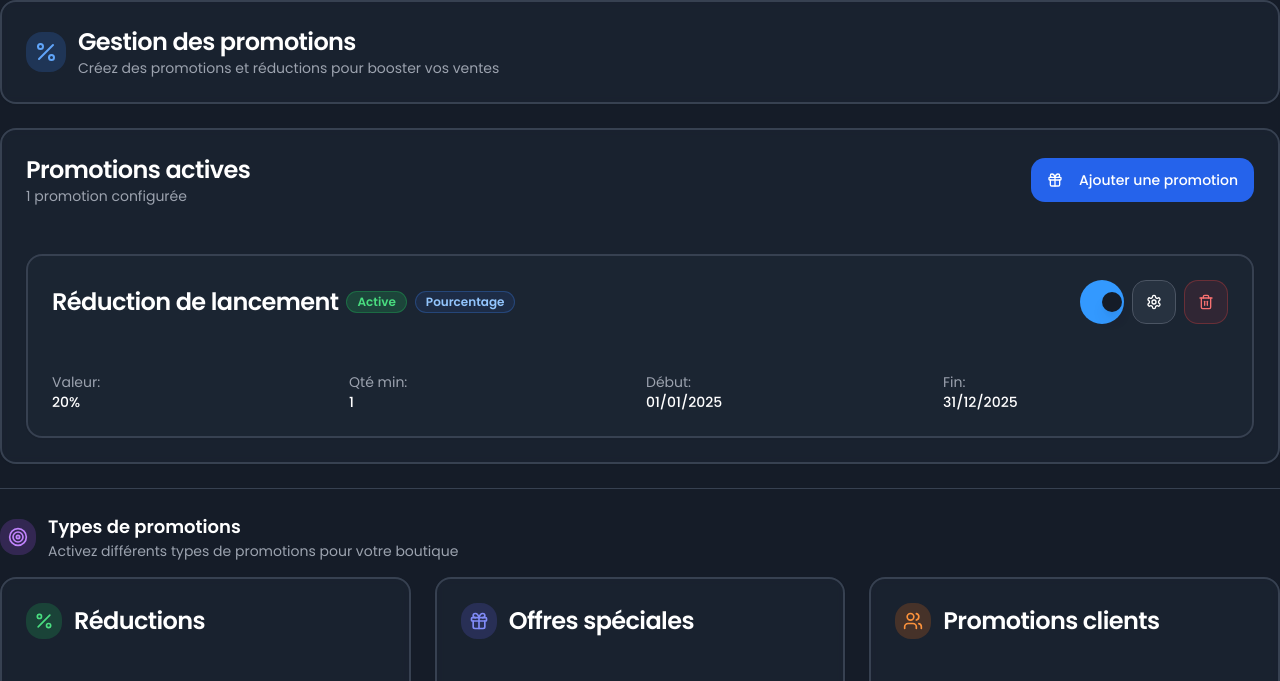
Test: ProductPromotionsTab › ouvre le formulaire d'édition quand le bouton éditer est cliqué
Click the button named "Éditer la promotion Réduction de lancement": (1154, 302) [1132,280,1176,324]
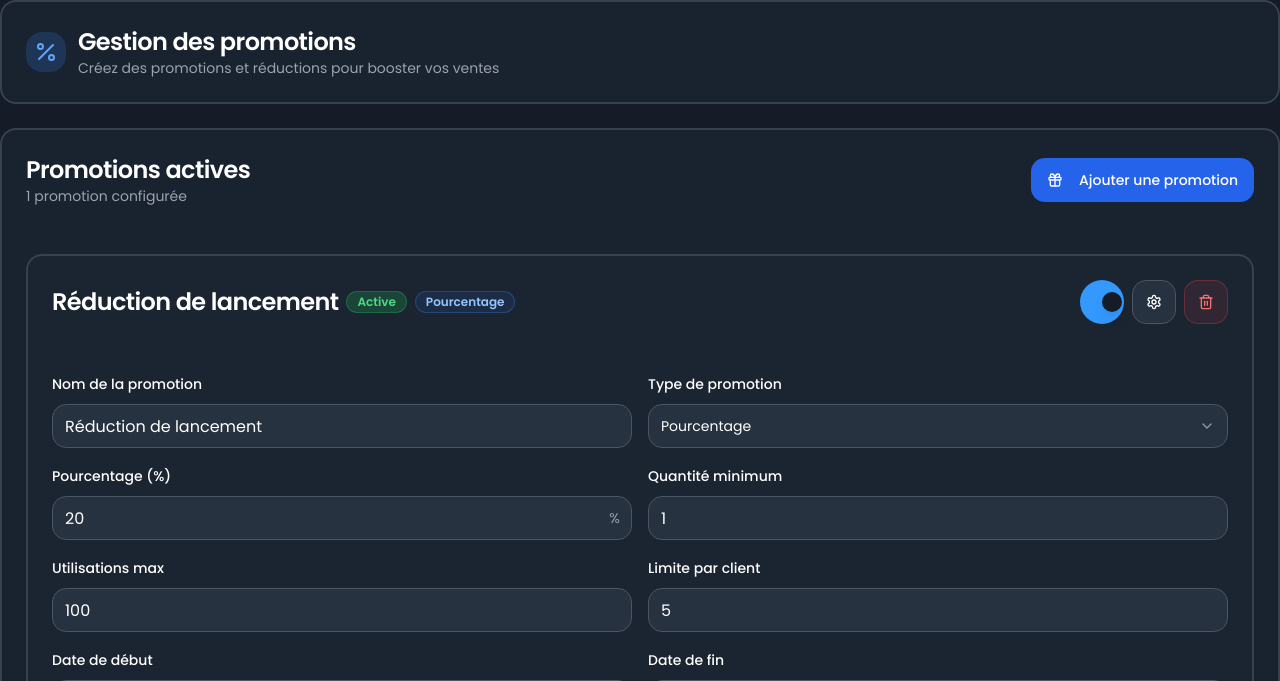
Expected: the field labelled "Nom de la promotion" is shown, [52,404,632,448]
Expected: the dropdown named "Type de promotion" is shown, [648,404,1228,448]
